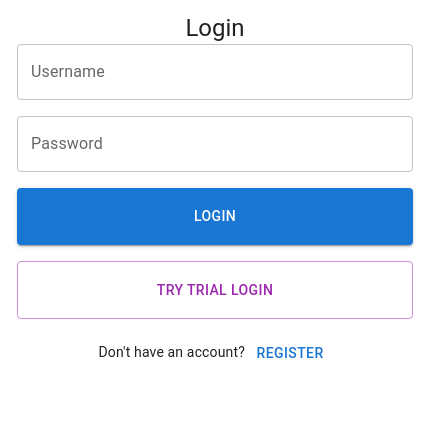
Test: Login component › shows validation errors when submitting empty form
Note: Submit empty form
Step 1. Click the button with test id "login-button" → click(215, 216), box [17, 188, 413, 244]
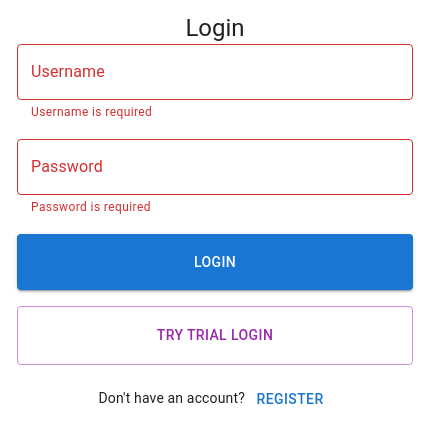
Result: the text "Username is required" is shown at [31, 105, 152, 119]
Result: the text "Password is required" is shown at [31, 200, 151, 214]
